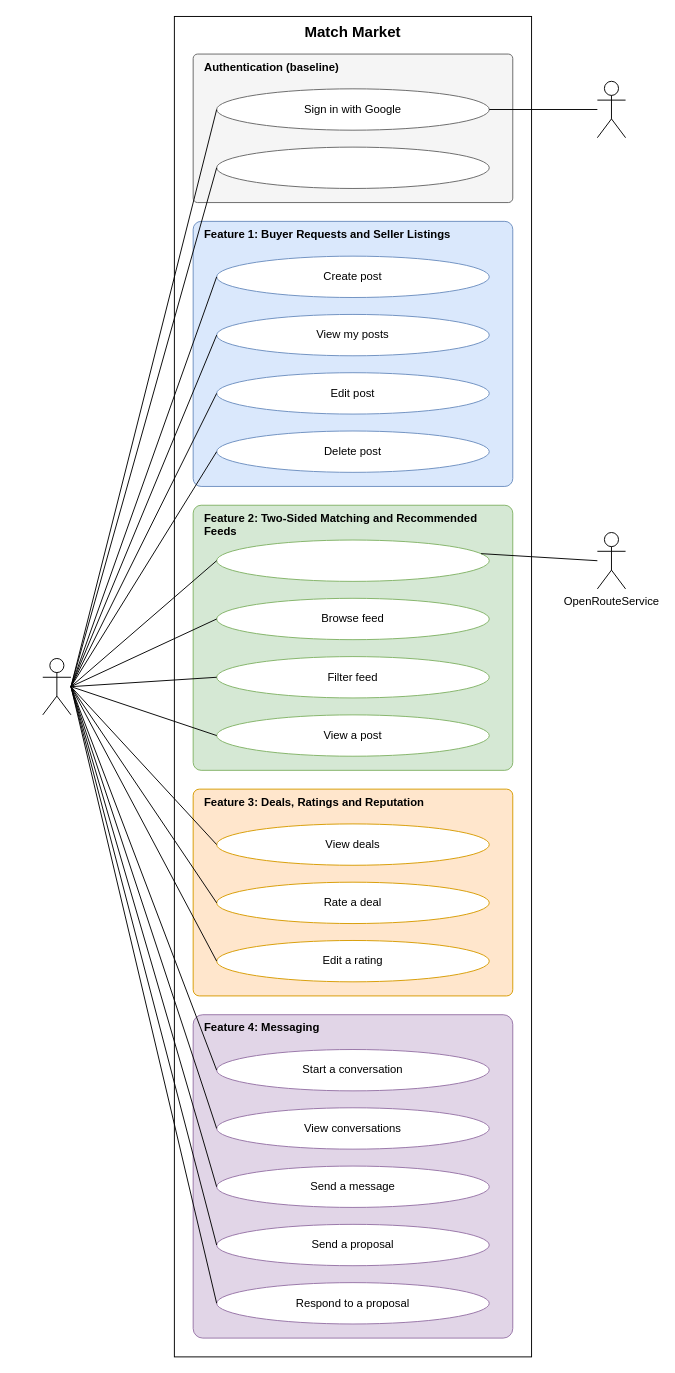
The diagram is 675 pixels wide and 1373 high, and some of its shapes have lost their labels. Here are the shapes that lost their labels. From the top down, the centre of each, then its label:
(611,109): Google Auth
(352,167): Sign out
(352,560): View recommendations for a post
(56,686): User (Buyer or Seller)
